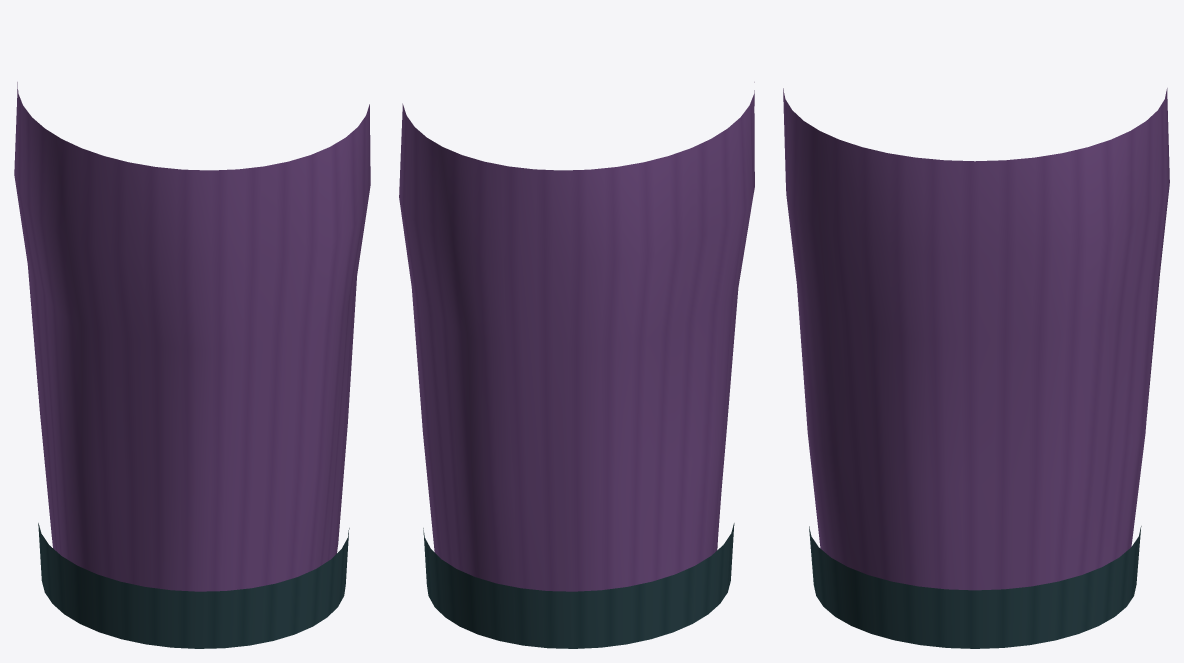
Rendered from bayside_bermudas.gltf.
The picture shows the model from 3 angles, left to right: view 1: azimuth 30°, elevation 25°; view 2: azimuth 150°, elevation 25°; view 3: azimuth 270°, elevation 25°; orthographic projection.
Visible parts, largest first — view 1: LegL; view 2: LegL; view 3: LegL.
Part boxes in pixels (<box>): LegL: <box>14,82,370,648</box>; LegL: <box>399,82,754,648</box>; LegL: <box>783,88,1169,648</box>.
Bounding box in the file's own units: 0.2182 × 0.34 × 0.2397.
2 materials, 2 textured.
